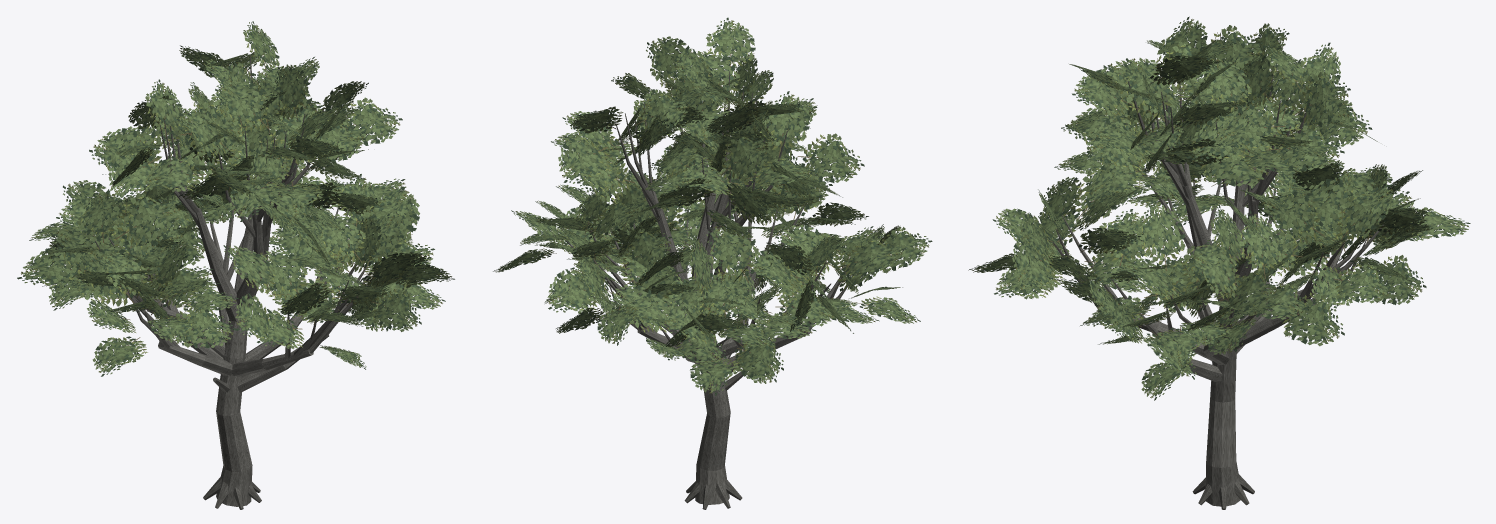
Rendered from ash.glb.
3 views of the same model, side by side, from view 1: azimuth 30°, elevation 25°; view 2: azimuth 150°, elevation 25°; view 3: azimuth 270°, elevation 25° (orthographic). The views are drawn at different scales.
Parts seen in each view (by area): view 1: Merewatch ash; view 2: Merewatch ash; view 3: Merewatch ash.
Part boxes in pixels (x1,y1,x2,y2): Merewatch ash: (17, 21, 454, 509); Merewatch ash: (493, 17, 932, 509); Merewatch ash: (968, 16, 1470, 509).
Bounding box in the file's own units: 6.59 × 7.03 × 6.94.
2 materials, 2 textured.
